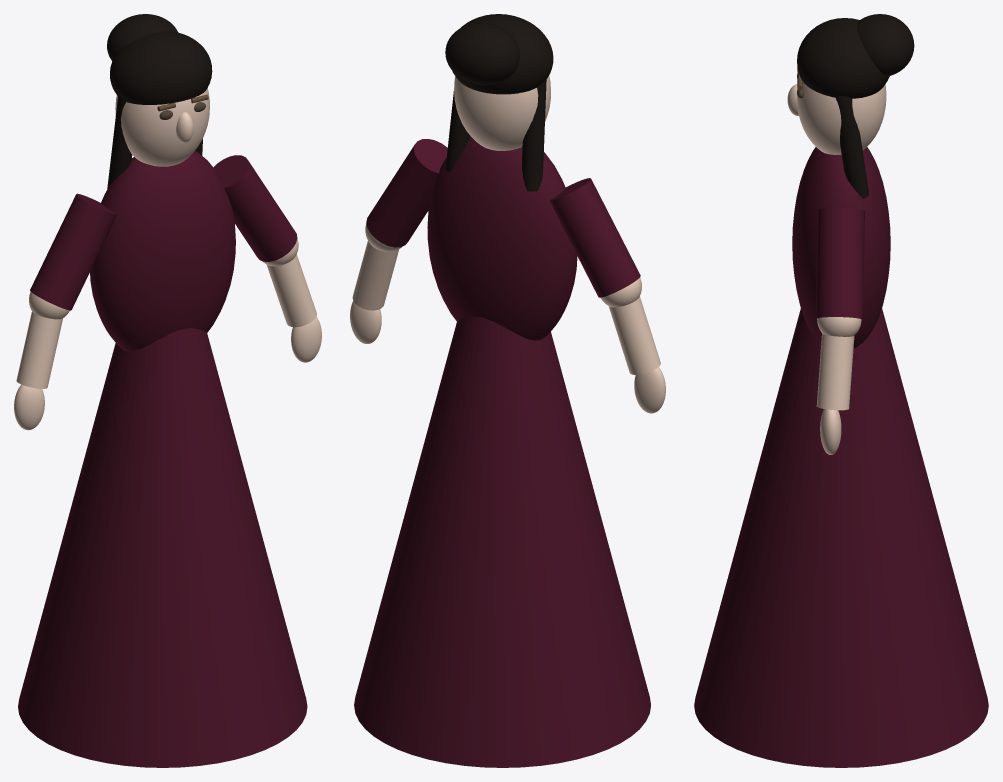
Rendered from cassandra.glb.
3 views of the same model, side by side, from view 1: azimuth 30°, elevation 25°; view 2: azimuth 150°, elevation 25°; view 3: azimuth 270°, elevation 25° (orthographic). The views are drawn at different scales.
Visible parts, largest first — view 1: Cassandra_#4a1226, Cassandra, Cassandra_#17120f; view 2: Cassandra_#4a1226, Cassandra, Cassandra_#17120f; view 3: Cassandra_#4a1226, Cassandra_#17120f, Cassandra.
Part boxes in pixels (x1,y1,x2,y2): Cassandra_#4a1226: (18, 151, 307, 767); Cassandra: (14, 88, 321, 430); Cassandra_#17120f: (107, 14, 212, 188); Cassandra_#4a1226: (354, 136, 650, 767); Cassandra: (350, 75, 665, 413); Cassandra_#17120f: (445, 14, 553, 191); Cassandra_#4a1226: (694, 147, 988, 767); Cassandra_#17120f: (797, 14, 914, 198); Cassandra: (787, 68, 886, 454).
Size of the model in its own units: 0.84 by 1.81 by 0.688.
